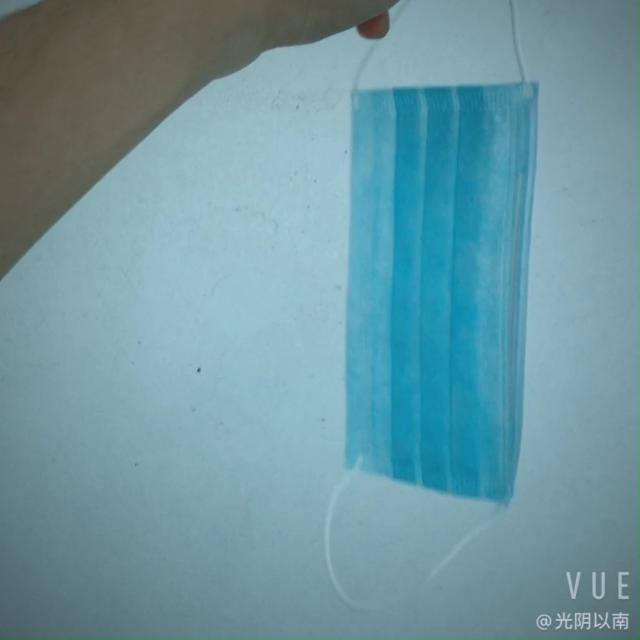face mask: (321, 58, 552, 502)
